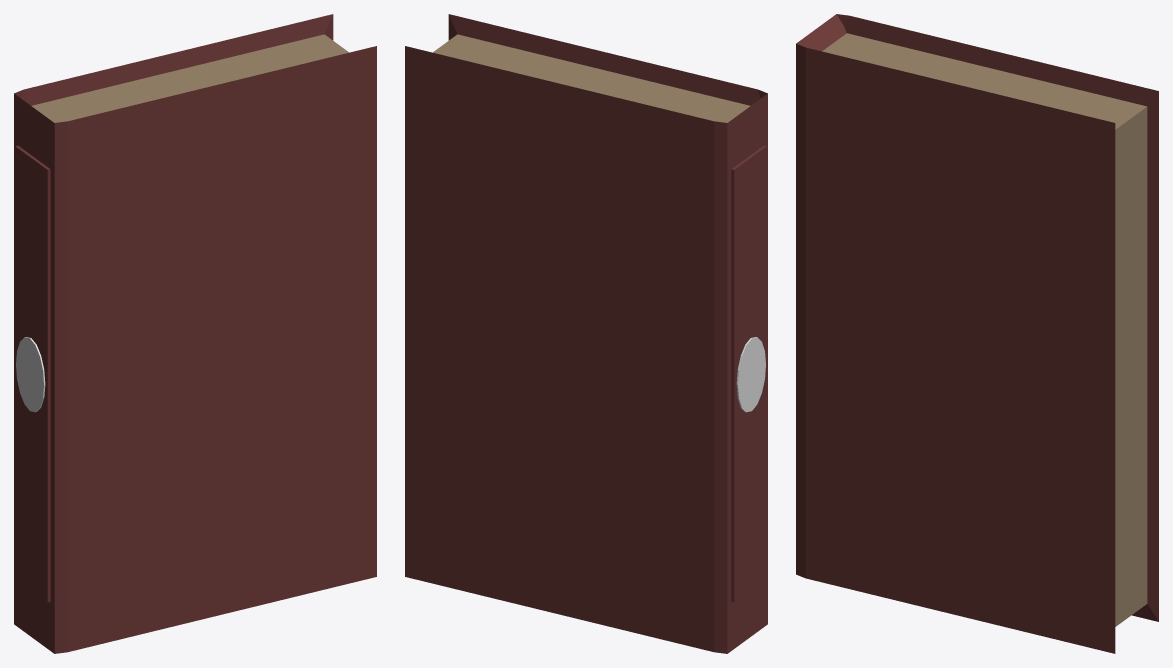
File: Book.fbx
3 views of the same model, side by side, from view 1: azimuth 30°, elevation 25°; view 2: azimuth 150°, elevation 25°; view 3: azimuth 330°, elevation 25° (orthographic).
Visible parts, largest first — view 1: BookCover, Insert, SymbolFace; view 2: BookCover, Insert, SymbolFace; view 3: BookCover, Insert.
Boxes of the visible parts, box(x1,y1,x2,y2) form: BookCover: box(14, 14, 376, 653); Insert: box(31, 34, 348, 122); SymbolFace: box(16, 337, 45, 412); BookCover: box(405, 14, 767, 653); Insert: box(433, 34, 750, 122); SymbolFace: box(736, 337, 765, 412); BookCover: box(796, 14, 1158, 653); Insert: box(822, 33, 1147, 626).
Size of the model in its own units: 321 by 500 by 74.49.
